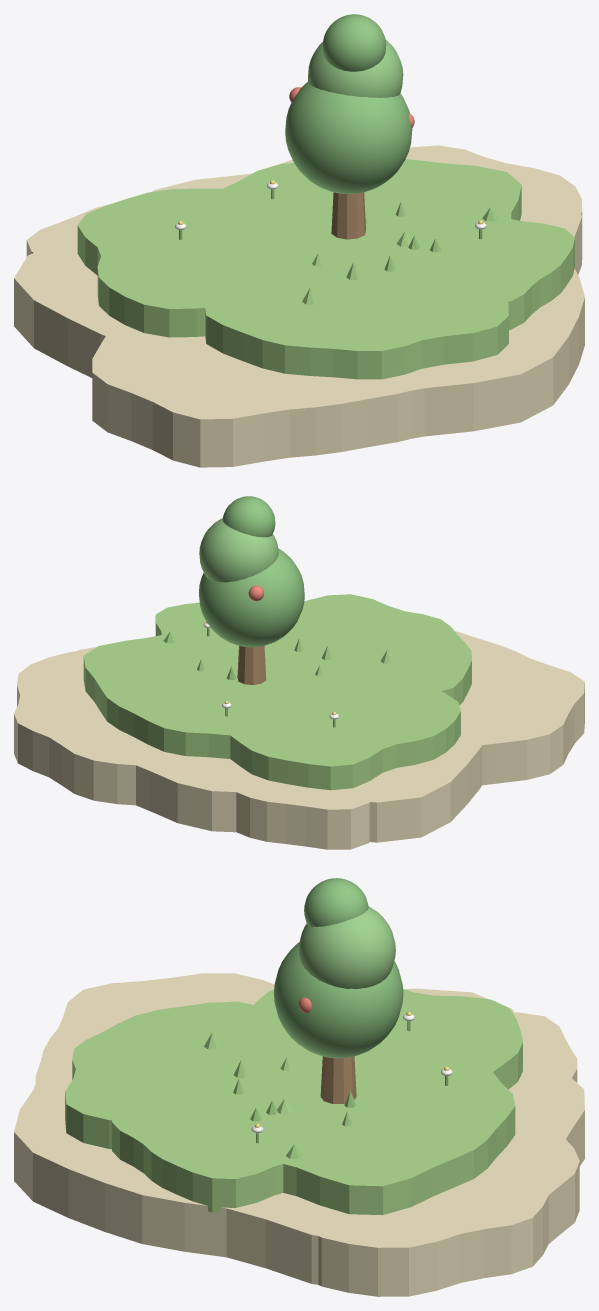
The picture shows the model from 3 angles, top to bottom: view 1: azimuth 30°, elevation 25°; view 2: azimuth 150°, elevation 25°; view 3: azimuth 270°, elevation 25°; orthographic projection. The views are drawn at different scales.
Parts seen in each view (by area): view 1: IslandHome; view 2: IslandHome; view 3: IslandHome.
Part boxes in pixels (bbox=[...]): IslandHome: bbox=[14, 14, 584, 467]; IslandHome: bbox=[14, 496, 584, 849]; IslandHome: bbox=[14, 878, 584, 1296].
Bounding box in the file's own units: 6.01 × 3.02 × 5.28.
